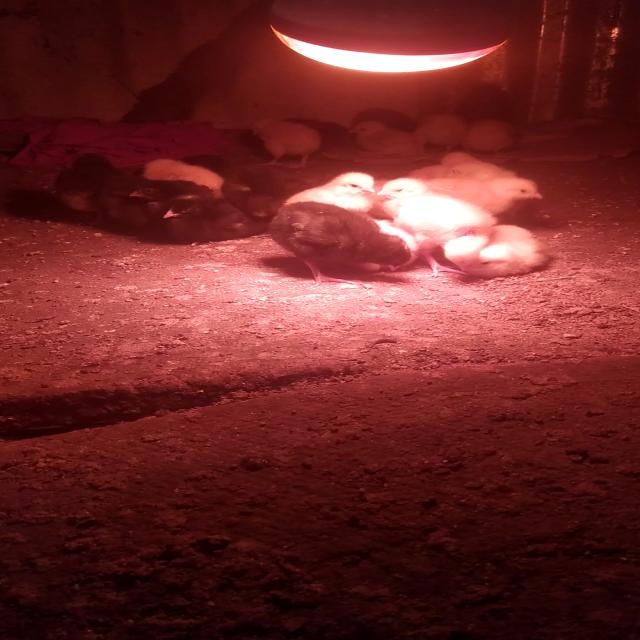chick: (261, 201, 410, 285), (375, 178, 493, 235), (445, 224, 551, 279), (154, 195, 255, 246), (55, 151, 116, 227), (133, 154, 230, 200), (427, 177, 542, 215), (283, 171, 383, 214), (252, 120, 324, 166), (346, 120, 420, 158), (410, 111, 467, 149)
objects: (265, 0, 519, 73)
